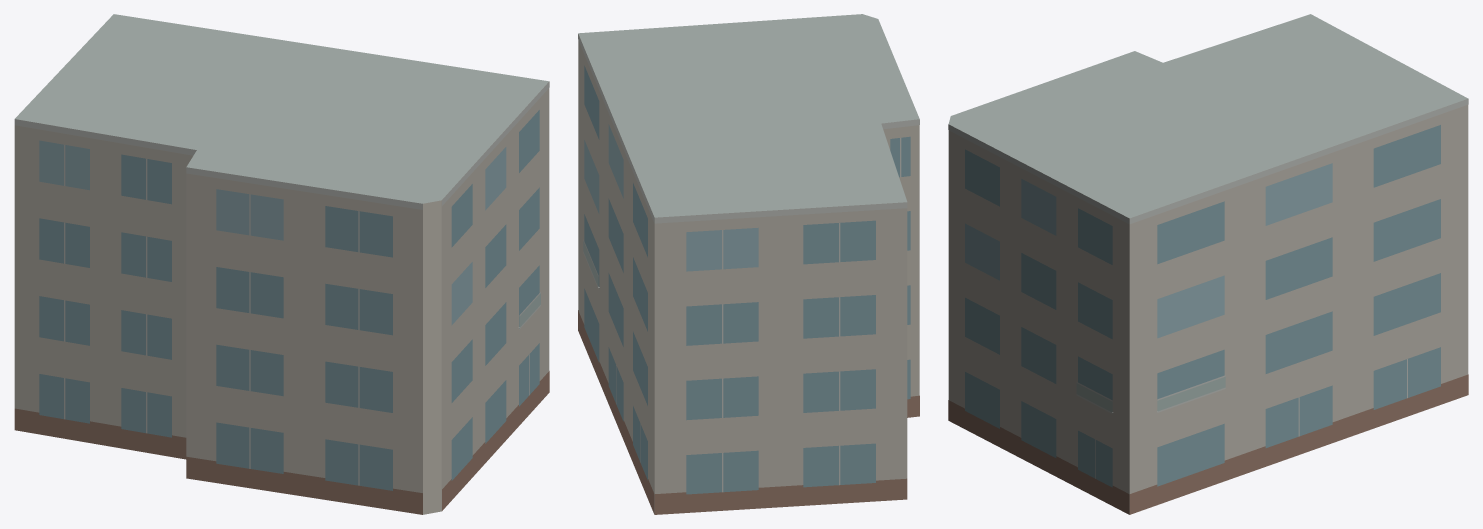
Rendered from survey-upis-32930050.glb.
3 views of the same model, side by side, from view 1: azimuth 30°, elevation 25°; view 2: azimuth 150°, elevation 25°; view 3: azimuth 270°, elevation 25° (orthographic). The views are drawn at different scales.
Visible parts, largest first — view 1: survey-upis-32930050.tmp; view 2: survey-upis-32930050.tmp; view 3: survey-upis-32930050.tmp.
Part boxes in pixels (x1,y1,x2,y2): survey-upis-32930050.tmp: (14, 14, 549, 514); survey-upis-32930050.tmp: (578, 14, 919, 514); survey-upis-32930050.tmp: (948, 14, 1468, 514).
Size of the model in its own units: 18.05 by 12.2 by 19.4.
